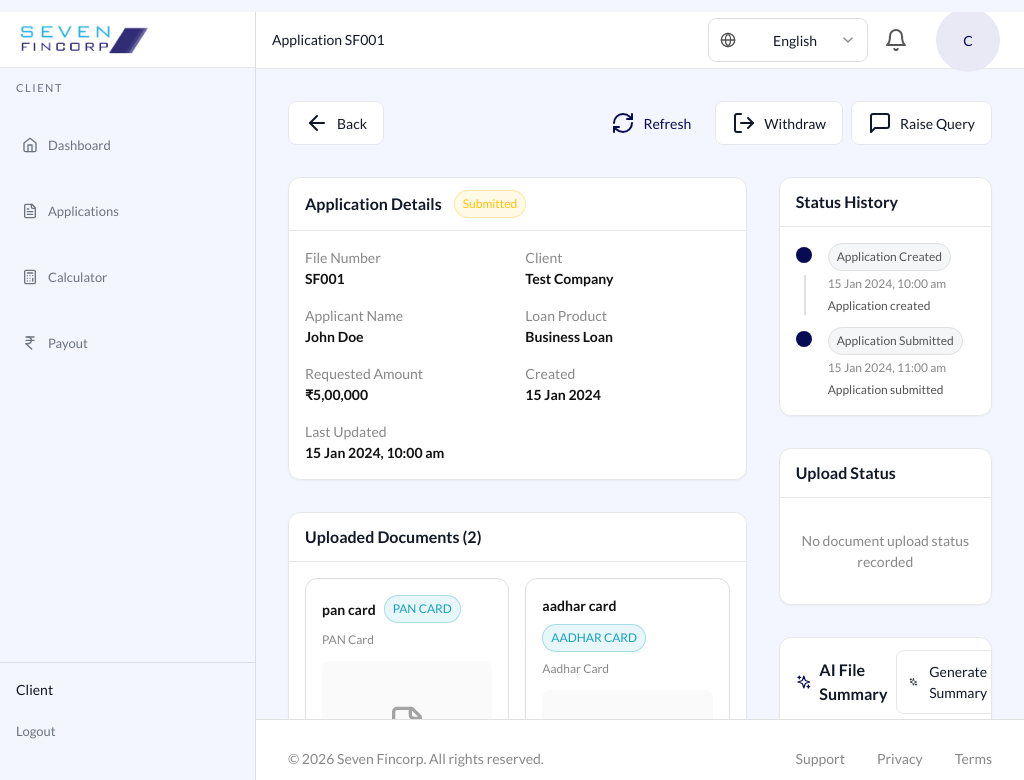
Scenario: ApplicationDetail Page - P0 Tests › M4-FE-004: AI Summary Section Rendering › should show loading state while generating AI summary
This screenshot has width=1024, height=780.
Click the button "Generate Summary" at (950, 682), box [896, 650, 1004, 714]
(page scrolled)
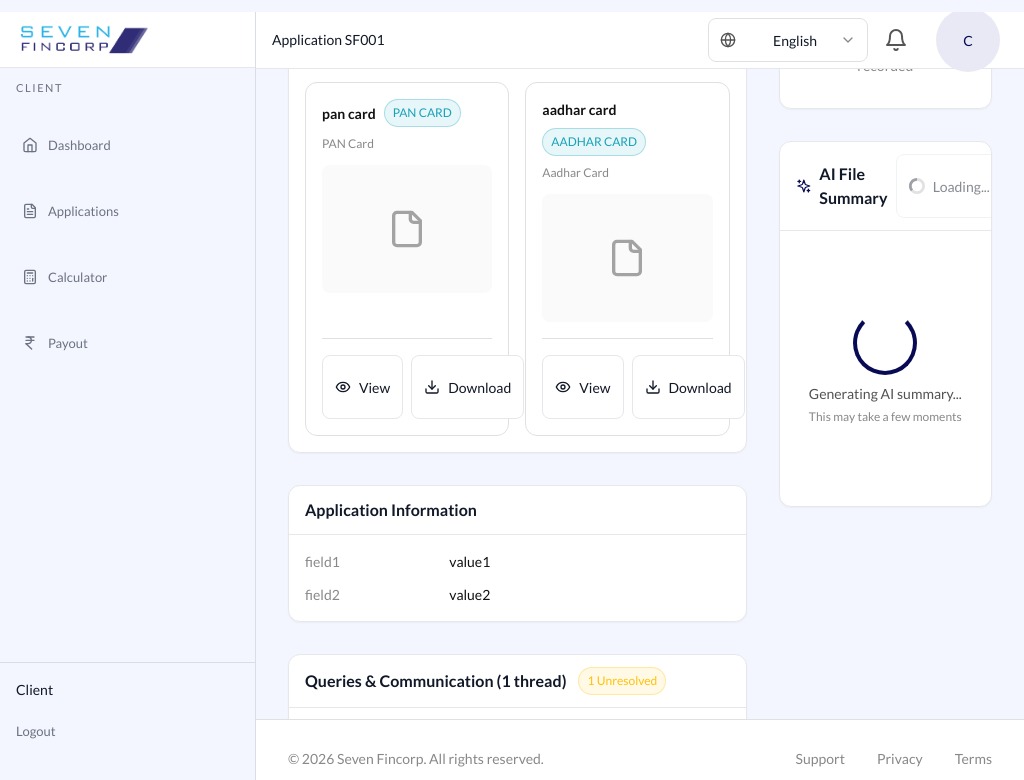
Check: the text "Generating AI summary..." is shown, box [796, 383, 975, 404]
